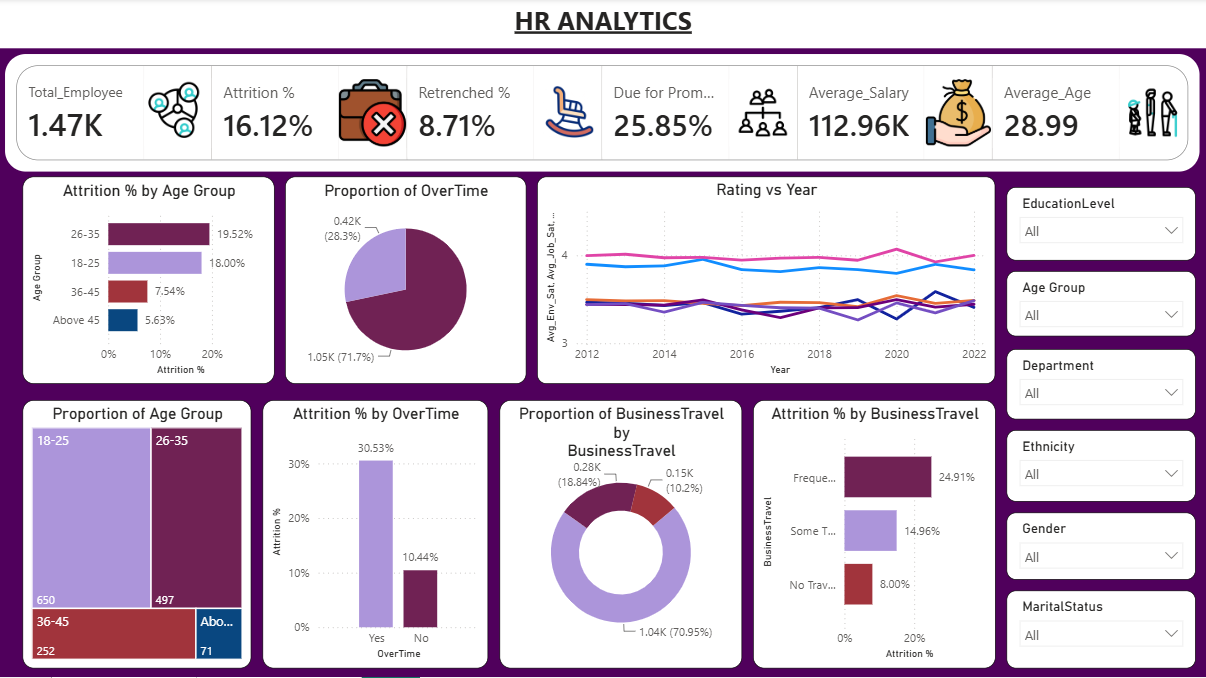

This screenshot's page, from the dashboard's own definition file:
{"tool":"powerbi","page":{"name":"Overviews ","canvas":[1280,720],"ordinal":0},"visuals":[{"type":"cardVisual","fields":{"Data":["all measure.Total_Employee","all measure.Attrition %","all measure.Retrenched %","all measure.Due for Promotion%","all measure.Average_Salary","all measure.Average_Age"]},"box":[0,54.1,1278.9,135.2],"z":0},{"type":"textbox","box":[0,0,1279.2,53.4],"z":1000},{"type":"barChart","fields":{"Category":["Employee.Age Group "],"Y":["all measure.Attrition %"]},"box":[24.3,189.4,267.2,220.2],"z":2000},{"type":"columnChart","fields":{"Category":["Employee.OverTime"],"Y":["all measure.Attrition %"]},"box":[278.5,425.9,239.6,285],"z":3000},{"type":"barChart","fields":{"Category":["Employee.BusinessTravel"],"Y":["all measure.Attrition %"]},"box":[798.3,425.9,257.5,285],"z":4000},{"type":"treemap","title":"Proportion of Age Group  ","fields":{"Group":["Employee.Age Group "],"Values":["CountNonNull(Employee.Age Group )"]},"box":[24.3,425.9,242.9,285],"z":5000},{"type":"pieChart","title":"Proportion of OverTime ","fields":{"Category":["Employee.OverTime"],"Y":["CountNonNull(Employee.OverTime)"]},"box":[302.8,189.4,255.8,220.2],"z":6000},{"type":"donutChart","title":"Proportion of BusinessTravel by BusinessTravel","fields":{"Category":["Employee.BusinessTravel"],"Y":["CountNonNull(Employee.BusinessTravel)"]},"box":[529.5,425.9,257.5,285],"z":7000},{"type":"slicer","fields":{"Values":["EducationLevel.EducationLevel"]},"box":[1067.1,200.8,200.8,77.7],"z":8000},{"type":"slicer","fields":{"Values":["Employee.Age Group "]},"box":[1067.1,289.8,200.8,69.6],"z":9000},{"type":"slicer","fields":{"Values":["Employee.Department"]},"box":[1067.1,372.4,200.8,74.5],"z":10000},{"type":"slicer","fields":{"Values":["Employee.Ethnicity"]},"box":[1067.1,458.2,200.8,76.1],"z":11000},{"type":"slicer","fields":{"Values":["Employee.Gender"]},"box":[1067.1,545.7,200.8,71.2],"z":12000},{"type":"slicer","fields":{"Values":["Employee.MaritalStatus"]},"box":[1067.1,628.3,200.8,82.6],"z":13000},{"type":"lineChart","title":"Rating vs Year","fields":{"Y":["all measure.Avg_Env_Sat","all measure.Avg_Job_Sat","all measure.Avg_Manager_Rat","all measure.Avg_Rel_Sat","all measure.Avg_Self_Rat","all measure.Avg_Work_BaL"],"Category":["Calender.Date.Variation.Date Hierarchy.Year"]},"box":[570,189.4,485.8,220.2],"z":14000}]}

Visuals, with their boxes in screenshot pixels (x1, y1, x2, y2), scaled from the page's 1280x720 canvas onto the 1206x678 screenshot:
cardVisual - all measure.Total_Employee x all measure.Attrition %: box=[0, 51, 1205, 178]
textbox: box=[0, 0, 1205, 50]
barChart - Employee.Age Group  x all measure.Attrition %: box=[23, 178, 275, 386]
columnChart - Employee.OverTime x all measure.Attrition %: box=[262, 401, 488, 669]
barChart - Employee.BusinessTravel x all measure.Attrition %: box=[752, 401, 995, 669]
"Proportion of Age Group  " treemap: box=[23, 401, 252, 669]
"Proportion of OverTime " pieChart: box=[285, 178, 526, 386]
"Proportion of BusinessTravel by BusinessTravel" donutChart: box=[499, 401, 742, 669]
slicer - EducationLevel.EducationLevel: box=[1005, 189, 1195, 262]
slicer - Employee.Age Group : box=[1005, 273, 1195, 338]
slicer - Employee.Department: box=[1005, 351, 1195, 421]
slicer - Employee.Ethnicity: box=[1005, 431, 1195, 503]
slicer - Employee.Gender: box=[1005, 514, 1195, 581]
slicer - Employee.MaritalStatus: box=[1005, 592, 1195, 669]
"Rating vs Year" lineChart: box=[537, 178, 995, 386]
